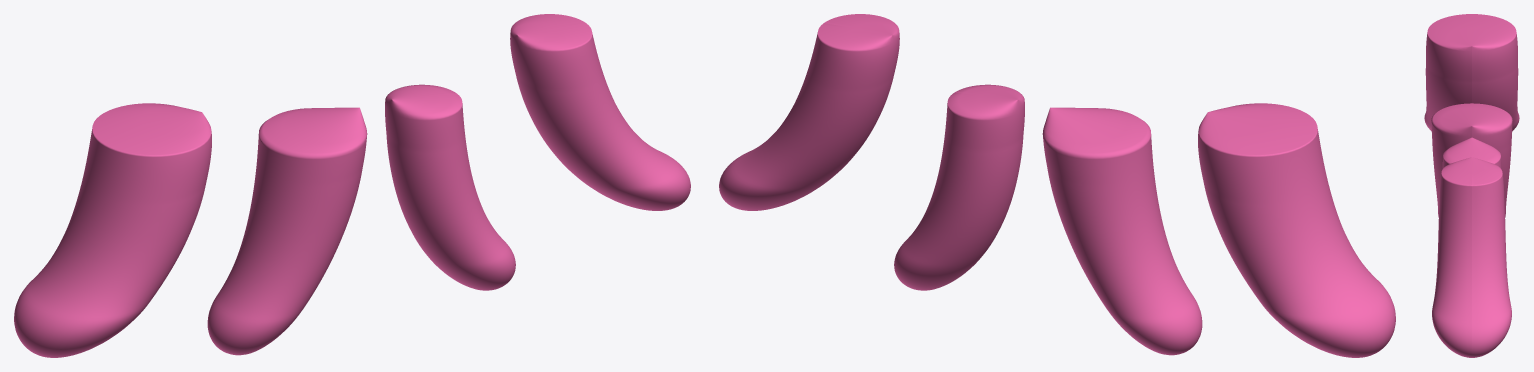
File: snake.glb
3 views of the same model, side by side, from view 1: azimuth 30°, elevation 25°; view 2: azimuth 150°, elevation 25°; view 3: azimuth 270°, elevation 25° (orthographic). The views are drawn at different scales.
Parts seen in each view (by area): view 1: snake_0_solid, snake_1_solid, snake_3_solid, snake_2_solid; view 2: snake_0_solid, snake_1_solid, snake_3_solid, snake_2_solid; view 3: snake_3_solid, snake_0_solid, snake_1_solid, snake_2_solid.
Part boxes in pixels (bbox=[...]): snake_0_solid: bbox=[14, 103, 211, 357]; snake_1_solid: bbox=[207, 107, 367, 355]; snake_3_solid: bbox=[510, 14, 690, 210]; snake_2_solid: bbox=[385, 84, 515, 290]; snake_0_solid: bbox=[1198, 103, 1395, 357]; snake_1_solid: bbox=[1042, 107, 1202, 355]; snake_3_solid: bbox=[719, 14, 899, 210]; snake_2_solid: bbox=[894, 84, 1024, 290]; snake_3_solid: bbox=[1432, 157, 1511, 357]; snake_0_solid: bbox=[1424, 14, 1519, 130]; snake_1_solid: bbox=[1431, 103, 1512, 217]; snake_2_solid: bbox=[1442, 137, 1501, 168].
Size of the model in its own units: 0.6554 by 0.2348 by 0.1131.
